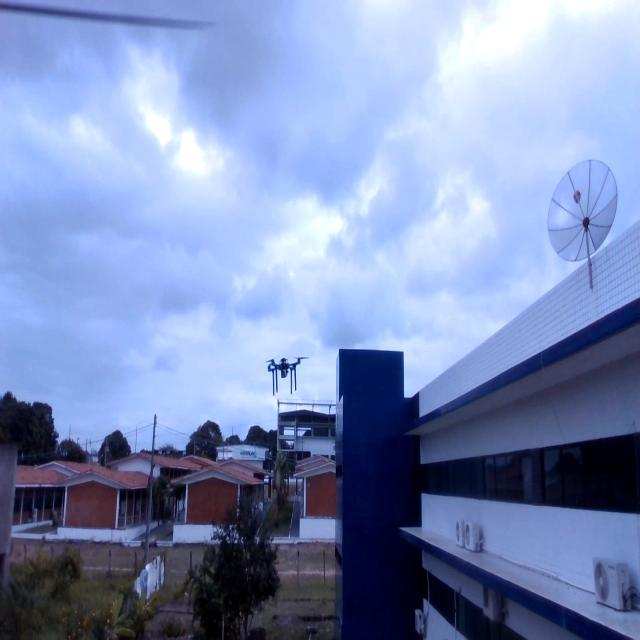-uav-: (260, 347, 312, 400)
